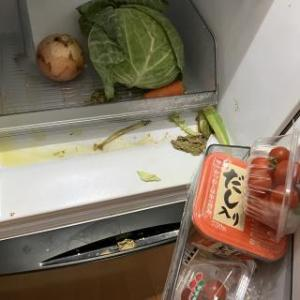cabbage: (75, 1, 187, 97)
carrot: (142, 81, 186, 101)
onion: (36, 32, 86, 82)
